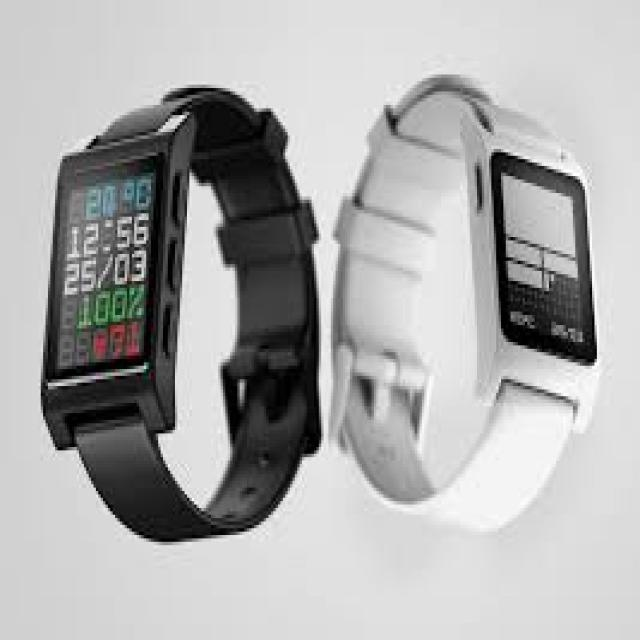objects: (41, 88, 319, 550), (328, 78, 599, 528)
